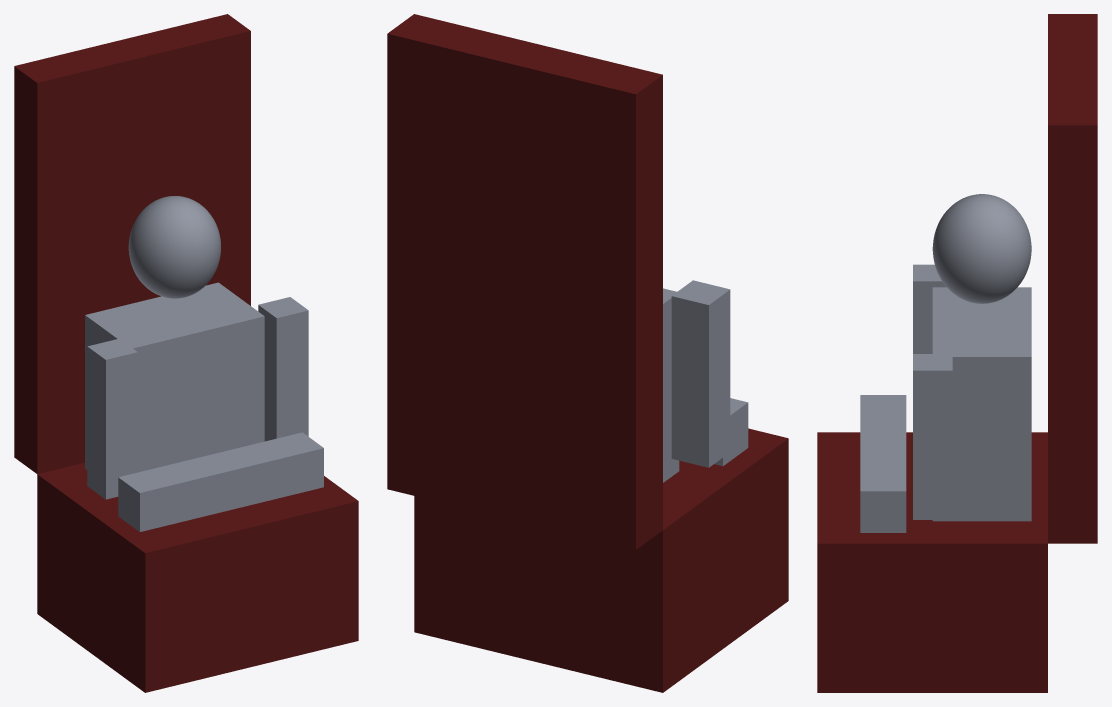
The model's file is ato2_trono_armadura.glb.
The picture shows the model from 3 angles, left to right: view 1: azimuth 30°, elevation 25°; view 2: azimuth 150°, elevation 25°; view 3: azimuth 270°, elevation 25°; orthographic projection. The views are drawn at different scales.
Visible parts, largest first — view 1: Malha_0; view 2: Malha_0; view 3: Malha_0.
Part boxes in pixels (x1,y1,x2,y2): Malha_0: (14, 14, 358, 692); Malha_0: (387, 14, 788, 692); Malha_0: (817, 14, 1097, 692).
Bounding box in the file's own units: 0.8 × 1.9 × 0.85.
